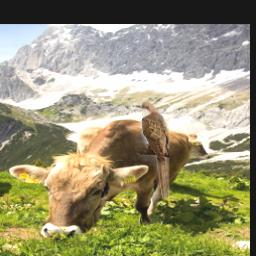Cuckoo: (135, 102, 169, 199)
